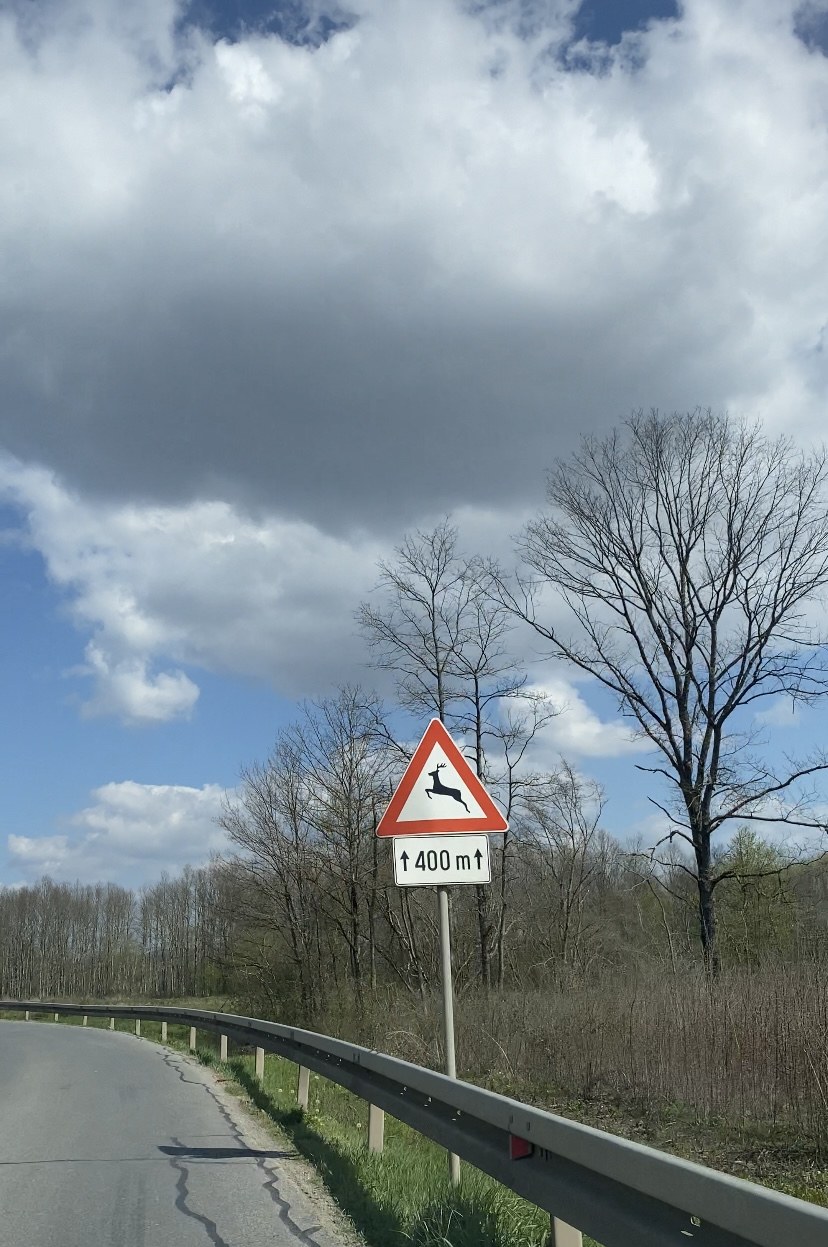Divljač na cesti: (375, 717, 510, 838)
